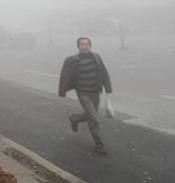person: (56, 37, 116, 157)
